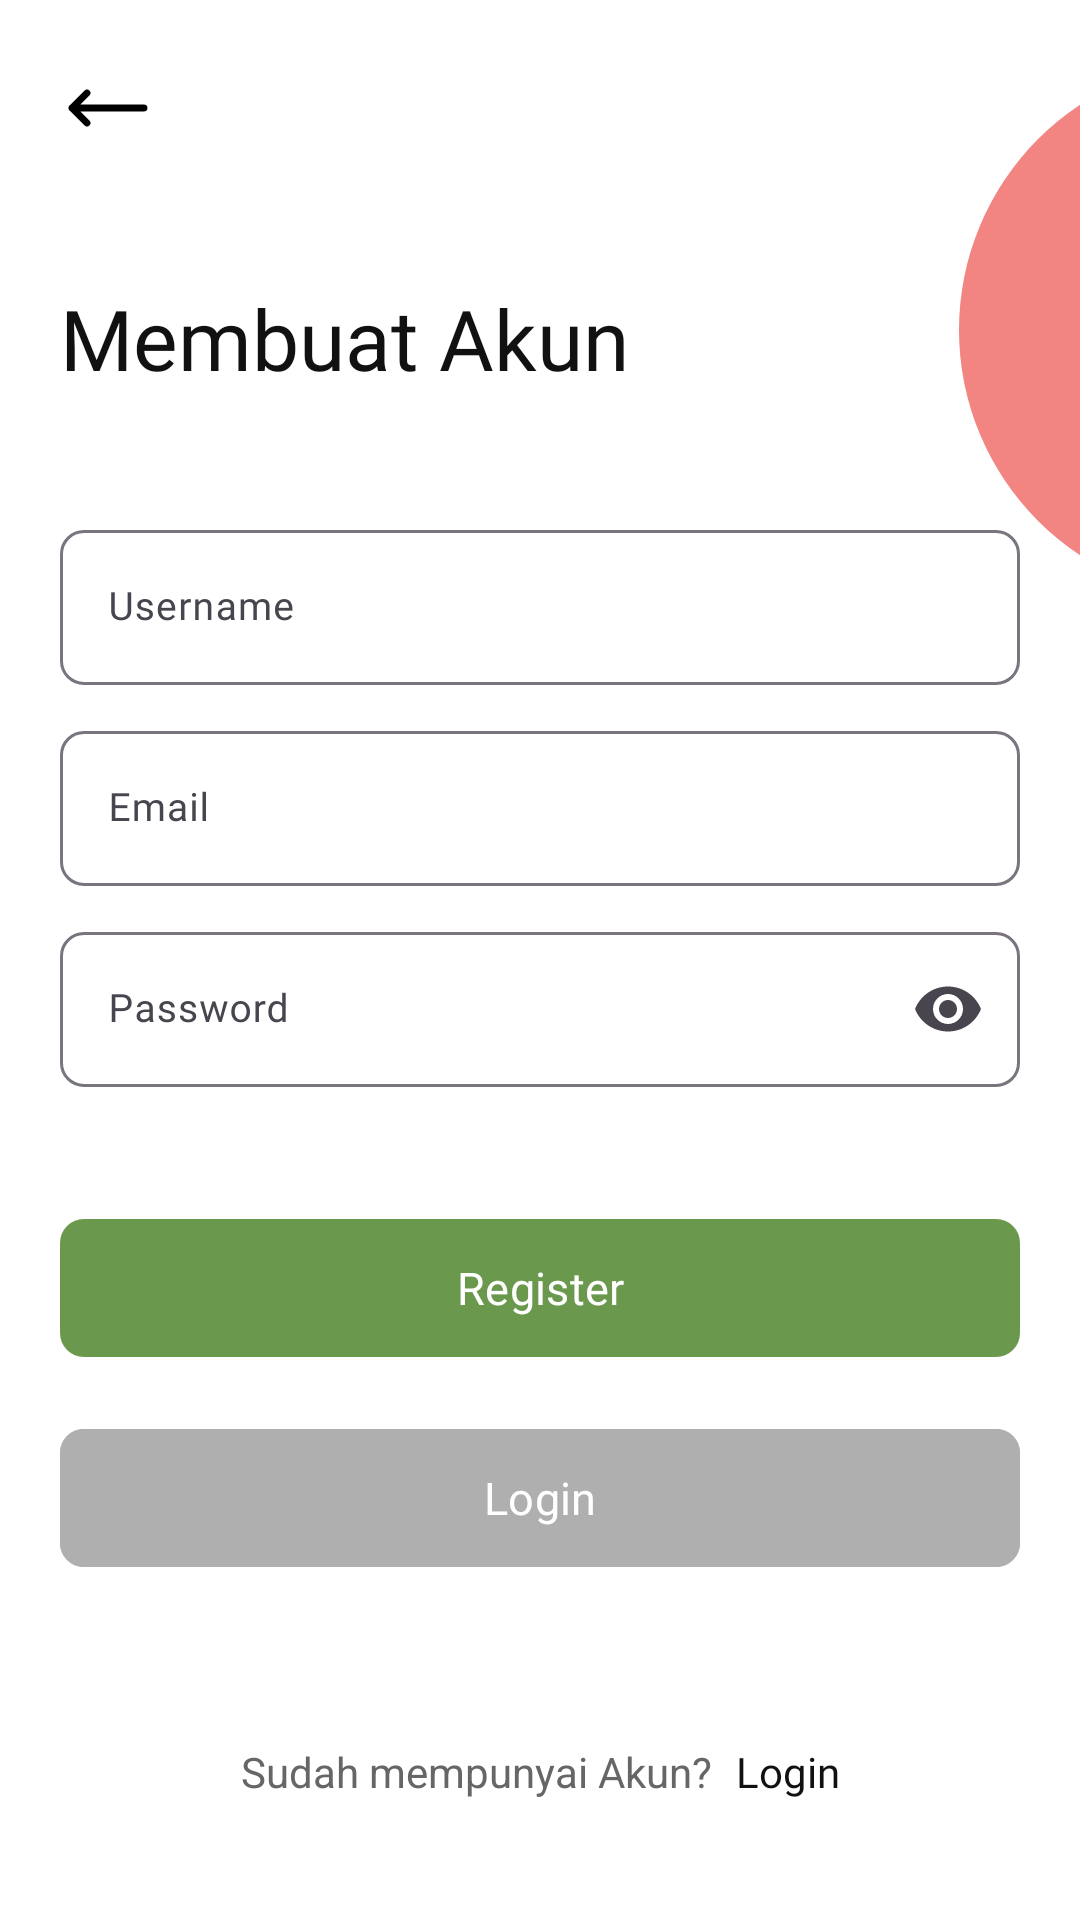

Icons on this 1080*1920 Android screen, each with the point to tap as [x,y]:
back: [108,108]
